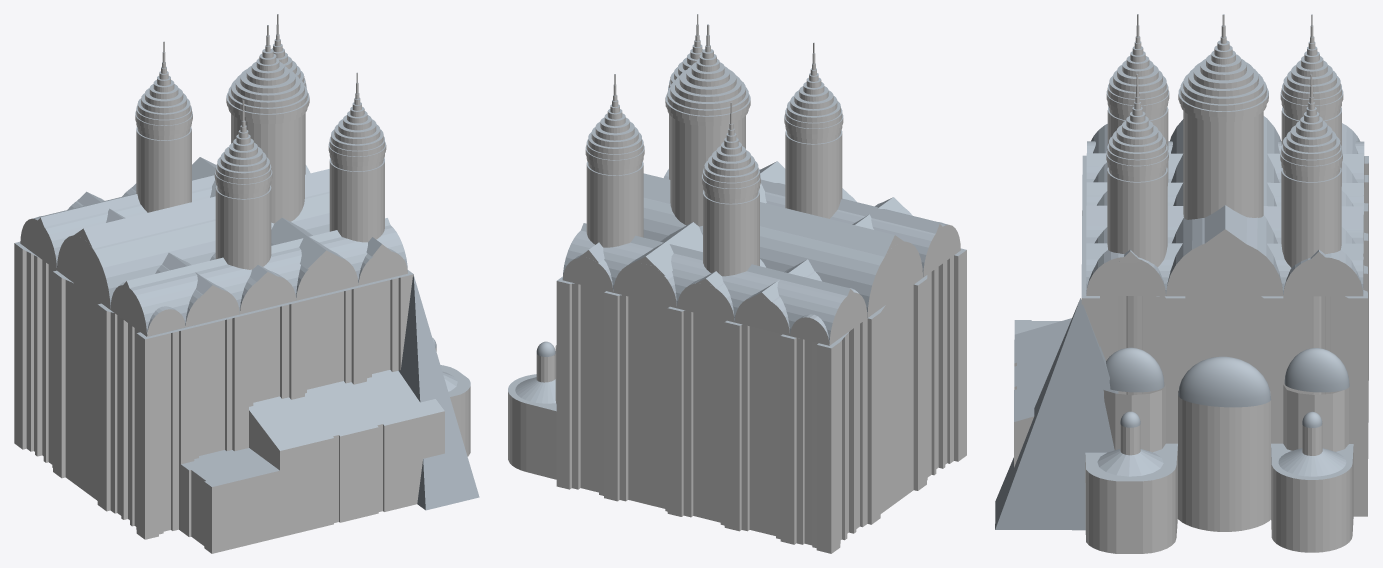
The model's file is moscow3.fbx.
3 views of the same model, side by side, from view 1: azimuth 30°, elevation 25°; view 2: azimuth 150°, elevation 25°; view 3: azimuth 270°, elevation 25° (orthographic). The views are drawn at different scales.
Visible parts, largest first — view 1: map_2.osm_buildings.3914, map_2.osm_buildings.3919, map_2.osm_buildings.3918, map_2.osm_buildings.3915, map_2.osm_buildings.3925, map_2.osm_buildings.3924, map_2.osm_buildings.3930, map_2.osm_buildings.3936, map_2.osm_buildings.3932, map_2.osm_buildings.3938, map_2.osm_buildings.3922, map_2.osm_buildings.3923 (+21 smaller); view 2: map_2.osm_buildings.3914, map_2.osm_buildings.3915, map_2.osm_buildings.3923, map_2.osm_buildings.3930, map_2.osm_buildings.3934, map_2.osm_buildings.3936, map_2.osm_buildings.3922, map_2.osm_buildings.3938, map_2.osm_buildings.3917, map_2.osm_buildings.3924, map_2.osm_buildings.3910, map_2.osm_buildings.3928 (+19 smaller); view 3: map_2.osm_buildings.3914, map_2.osm_buildings.3925, map_2.osm_buildings.3906, map_2.osm_buildings.3915, map_2.osm_buildings.3916, map_2.osm_buildings.3938, map_2.osm_buildings.3917, map_2.osm_buildings.3932, map_2.osm_buildings.3934, map_2.osm_buildings.3919, map_2.osm_buildings.3943, map_2.osm_buildings.3923 (+38 smaller).
Boxes of the visible parts, left/top/right/bottom form: map_2.osm_buildings.3914: left=14, top=241, right=413, bottom=539; map_2.osm_buildings.3919: left=249, top=370, right=444, bottom=537; map_2.osm_buildings.3918: left=181, top=448, right=279, bottom=553; map_2.osm_buildings.3915: left=57, top=191, right=329, bottom=309; map_2.osm_buildings.3925: left=398, top=275, right=479, bottom=510; map_2.osm_buildings.3924: left=110, top=225, right=407, bottom=336; map_2.osm_buildings.3930: left=215, top=185, right=271, bottom=269; map_2.osm_buildings.3936: left=136, top=127, right=191, bottom=212; map_2.osm_buildings.3932: left=329, top=158, right=384, bottom=242; map_2.osm_buildings.3938: left=231, top=114, right=304, bottom=223; map_2.osm_buildings.3922: left=74, top=169, right=329, bottom=248; map_2.osm_buildings.3923: left=20, top=165, right=310, bottom=270; map_2.osm_buildings.3914: left=556, top=248, right=966, bottom=553; map_2.osm_buildings.3915: left=643, top=198, right=922, bottom=317; map_2.osm_buildings.3923: left=562, top=230, right=867, bottom=345; map_2.osm_buildings.3930: left=785, top=130, right=842, bottom=218; map_2.osm_buildings.3934: left=586, top=161, right=643, bottom=247; map_2.osm_buildings.3936: left=703, top=190, right=759, bottom=276; map_2.osm_buildings.3922: left=643, top=173, right=904, bottom=256; map_2.osm_buildings.3938: left=670, top=116, right=745, bottom=226; map_2.osm_buildings.3917: left=508, top=374, right=556, bottom=479; map_2.osm_buildings.3924: left=664, top=169, right=960, bottom=277; map_2.osm_buildings.3910: left=613, top=169, right=761, bottom=308; map_2.osm_buildings.3928: left=627, top=161, right=785, bottom=275; map_2.osm_buildings.3914: left=1081, top=155, right=1368, bottom=516; map_2.osm_buildings.3925: left=995, top=298, right=1118, bottom=530; map_2.osm_buildings.3906: left=1178, top=391, right=1270, bottom=531; map_2.osm_buildings.3915: left=1166, top=116, right=1283, bottom=296; map_2.osm_buildings.3916: left=1085, top=443, right=1177, bottom=553; map_2.osm_buildings.3938: left=1183, top=111, right=1263, bottom=219; map_2.osm_buildings.3917: left=1271, top=443, right=1353, bottom=552; map_2.osm_buildings.3932: left=1107, top=167, right=1167, bottom=395; map_2.osm_buildings.3934: left=1281, top=167, right=1341, bottom=394; map_2.osm_buildings.3919: left=1014, top=318, right=1071, bottom=467; map_2.osm_buildings.3943: left=1178, top=356, right=1271, bottom=407; map_2.osm_buildings.3923: left=1283, top=123, right=1363, bottom=296.
Size of the model in its own units: 3455 by 4100 by 3027.
